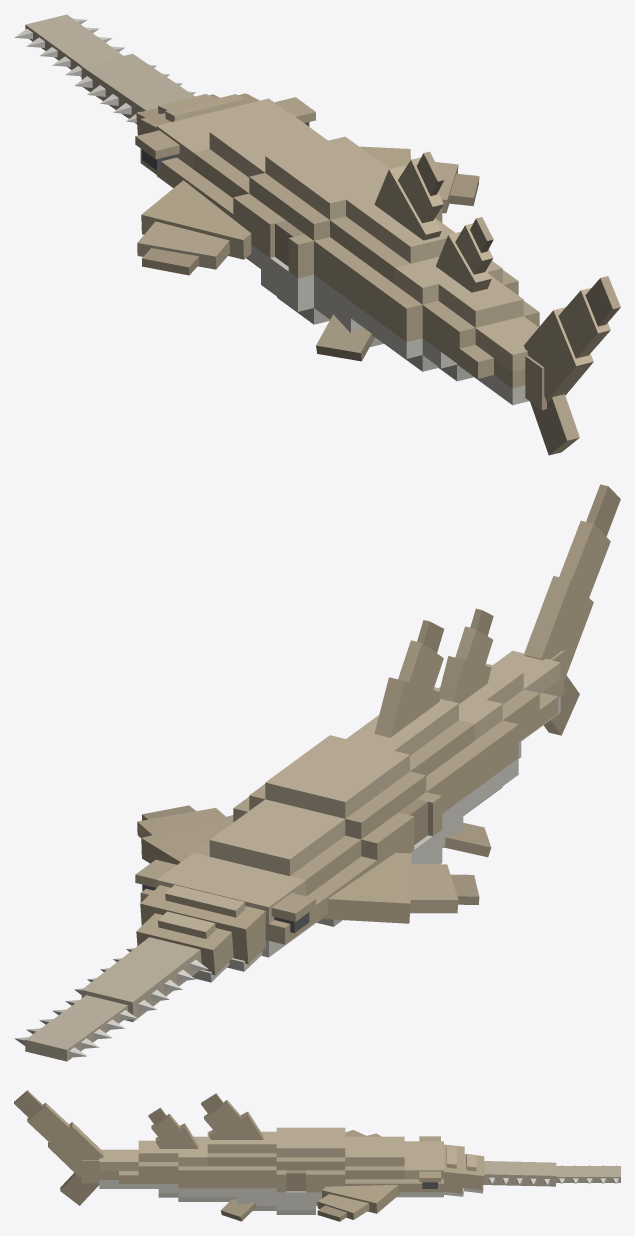
Rendered from Sawfish.glb.
3 renders of one model, top to bottom at view 1: azimuth 30°, elevation 25°; view 2: azimuth 150°, elevation 25°; view 3: azimuth 270°, elevation 25°, orthographic. The views are drawn at different scales.
Parts seen in each view (by area): view 1: S1, S3, Head, S2, S4, Tail, S5; view 2: Head, S1, S2, S3, Tail, S4, S5; view 3: Head, S3, S2, S1, S4, Tail, S5.
Part boxes in pixels (x1,y1,x2,y2): S1: (137,112,479,275); S3: (314,151,455,361); Head: (14,14,315,187); S2: (233,136,442,324); S4: (378,217,518,381); Tail: (524,276,620,455); S5: (441,286,539,405); Head: (14,853,321,1061); S1: (137,799,479,929); S2: (233,735,442,864); S3: (346,620,491,857); Tail: (524,484,620,735); S4: (433,608,521,807); S5: (485,650,560,740); Head: (404,1136,620,1197); S3: (201,1093,276,1221); S2: (276,1127,345,1214); S1: (317,1130,404,1221); S4: (148,1107,207,1201); Tail: (14,1090,103,1205); S5: (99,1140,158,1188).
Size of the model in its own units: 8.43 by 5.08 by 24.67.
